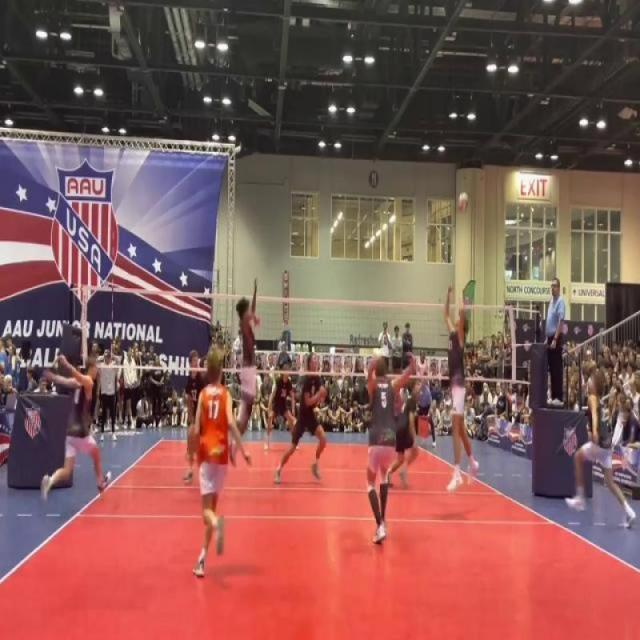volleyball: (456, 191, 469, 214)
